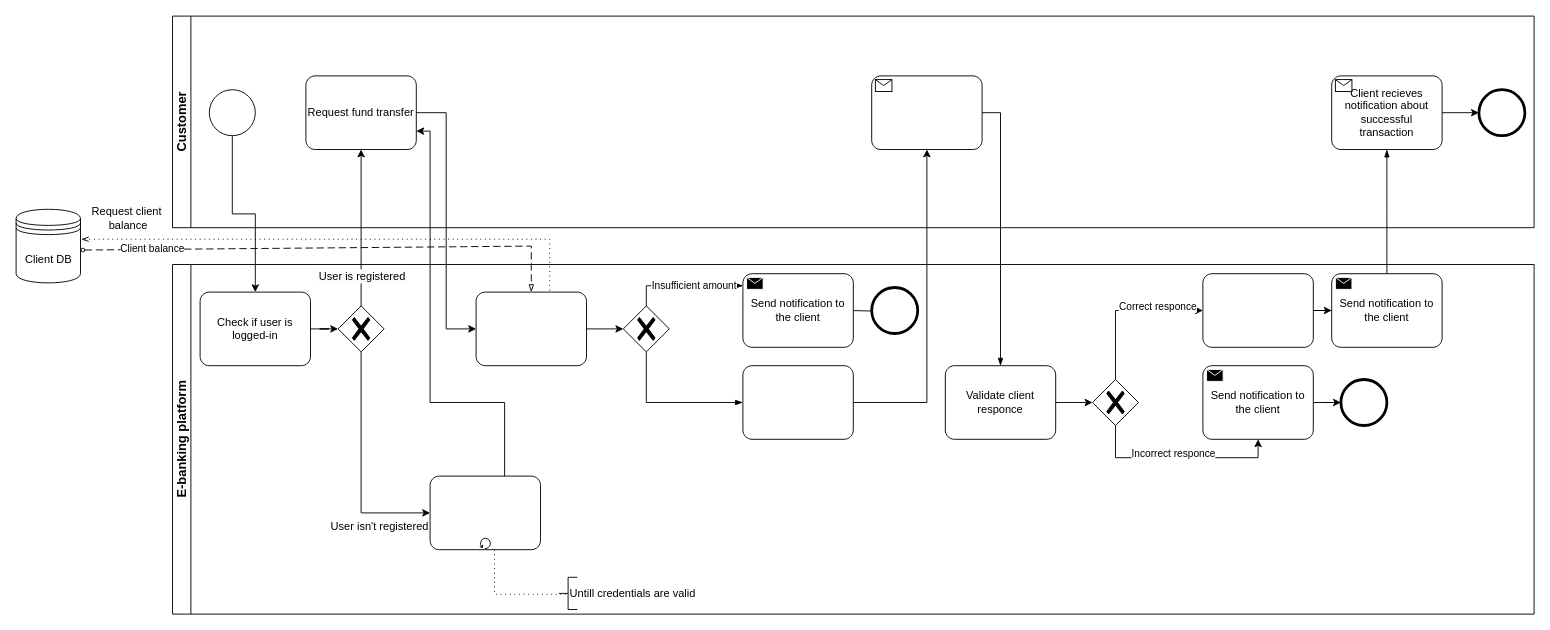
Some shapes in this 1550 by 630 pixel diagram are drawn without their labels. Here are the shapes that lost their labels. From the top down, the centre of each, then its label:
At pixel 926 112: "Send responce to a security question".
At pixel 530 328: "Check if customer has sufficient amount in their account".
At pixel 1257 310: "System approves the transaction".
At pixel 797 402: "Display security question".
At pixel 484 512: "Request user login credentials".
